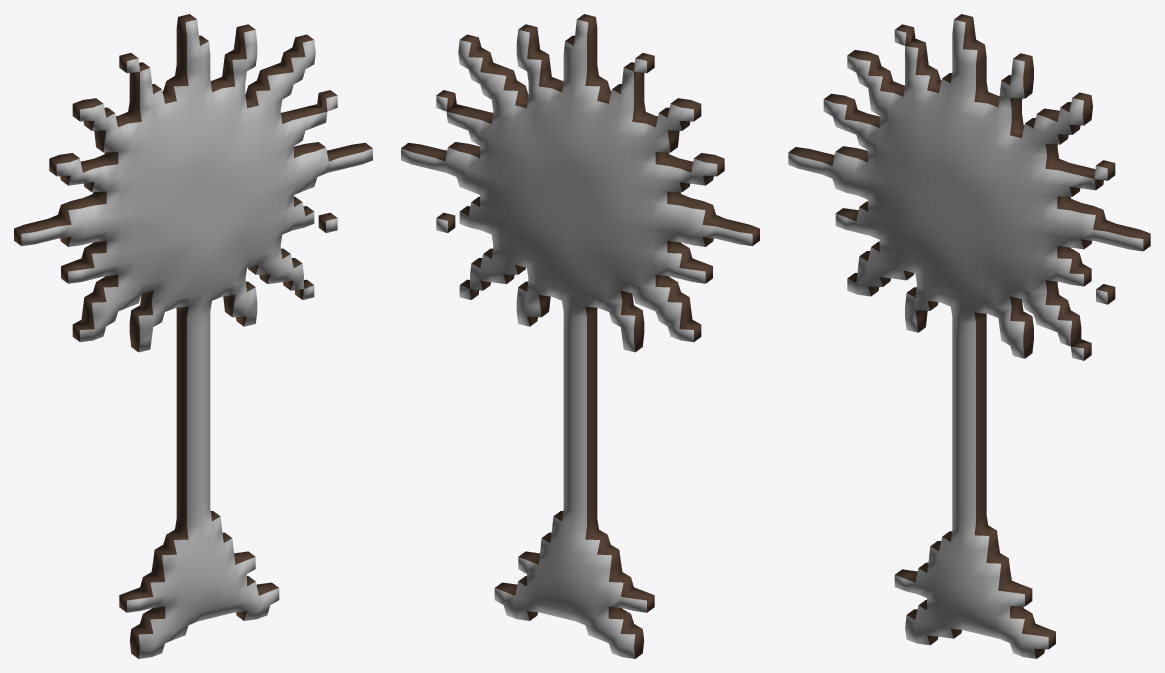
Rendered from wicker_sun.glb.
The picture shows the model from 3 angles, left to right: view 1: azimuth 30°, elevation 25°; view 2: azimuth 150°, elevation 25°; view 3: azimuth 330°, elevation 25°; orthographic projection.
Visible parts, largest first — view 1: wicker_sun; view 2: wicker_sun; view 3: wicker_sun.
Boxes of the visible parts, <box> form: wicker_sun: <box>14,14,372,658</box>; wicker_sun: <box>401,14,759,658</box>; wicker_sun: <box>788,14,1150,658</box>.
Bounding box in the file's own units: 2.08 × 3.53 × 0.312.
